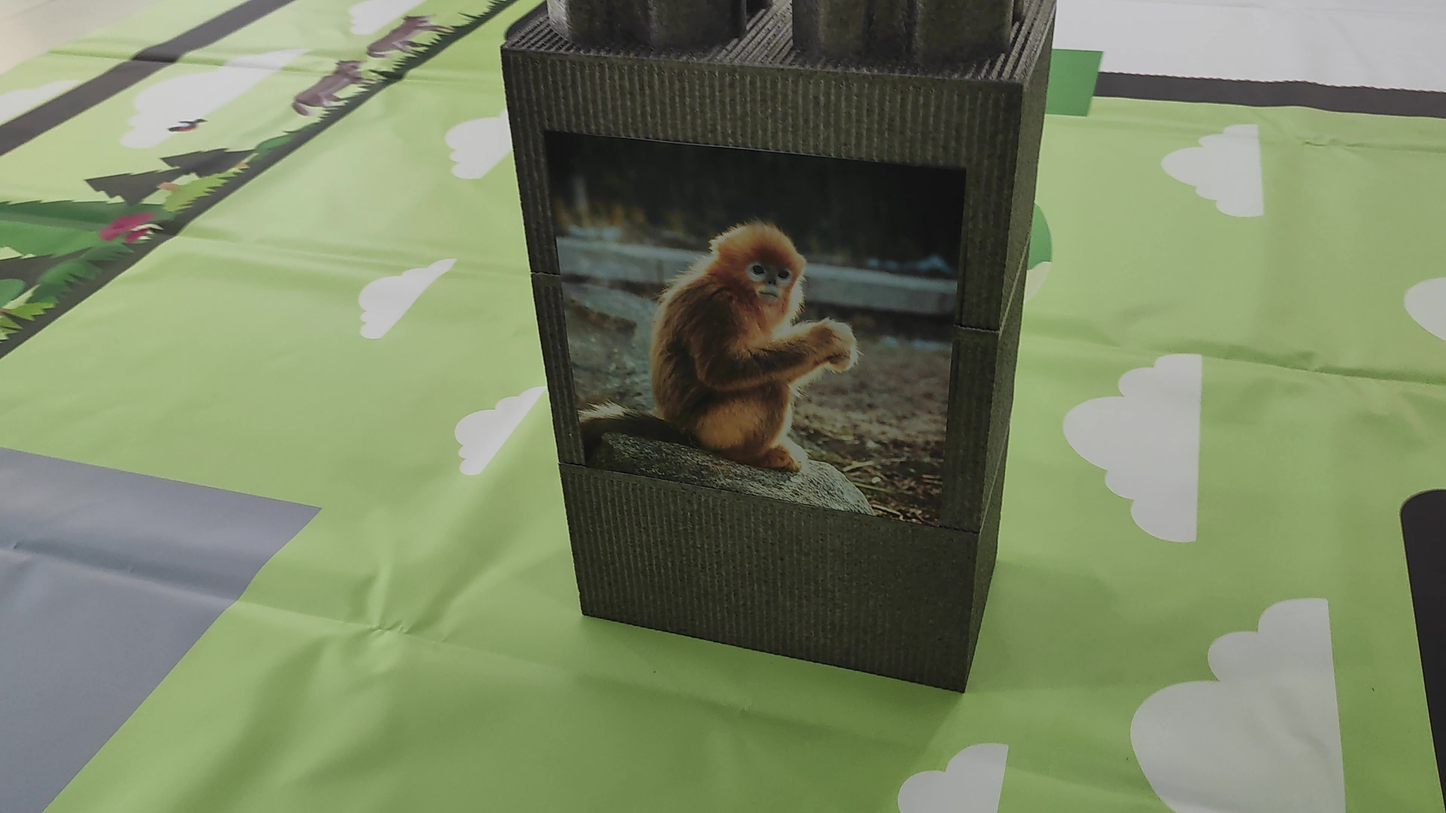monkey: (610, 153, 911, 493)
